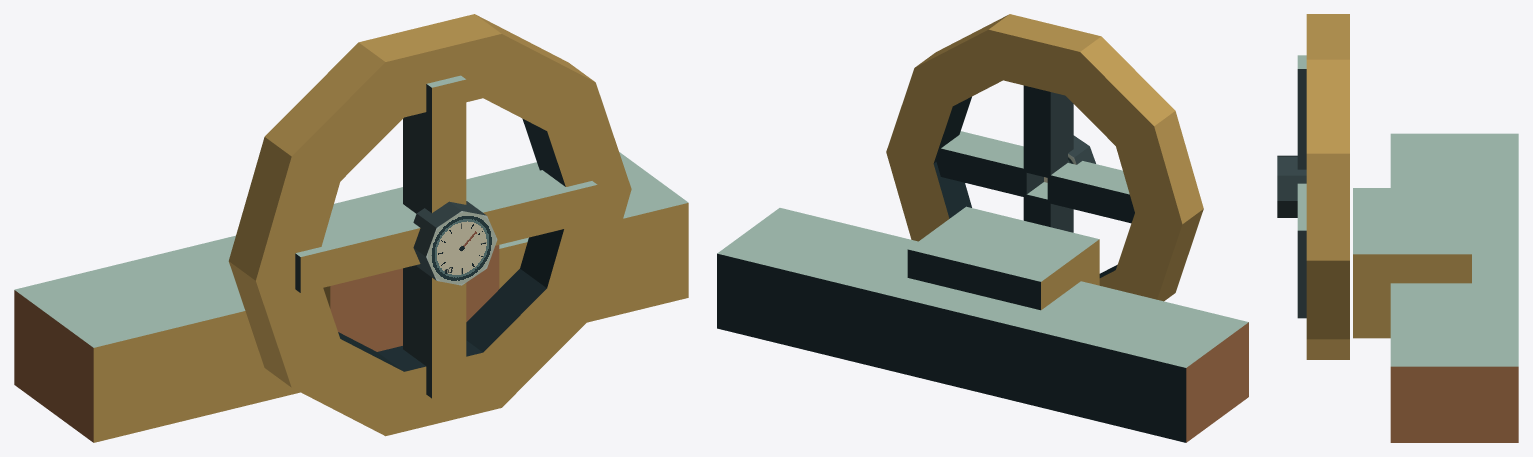
File: llave_paso_principal.glb
3 views of the same model, side by side, from view 1: azimuth 30°, elevation 25°; view 2: azimuth 150°, elevation 25°; view 3: azimuth 270°, elevation 25° (orthographic). The views are drawn at different scales.
Parts seen in each view (by area): view 1: ELECTRICO; view 2: ELECTRICO; view 3: ELECTRICO.
Boxes of the visible parts, x1,y1,x2,y2 form: ELECTRICO: (14, 14, 688, 442); ELECTRICO: (717, 14, 1248, 442); ELECTRICO: (1277, 14, 1518, 442).
Size of the model in its own units: 0.4343 by 0.2609 by 0.1897.
Materials: 1 (1 with a texture image).
